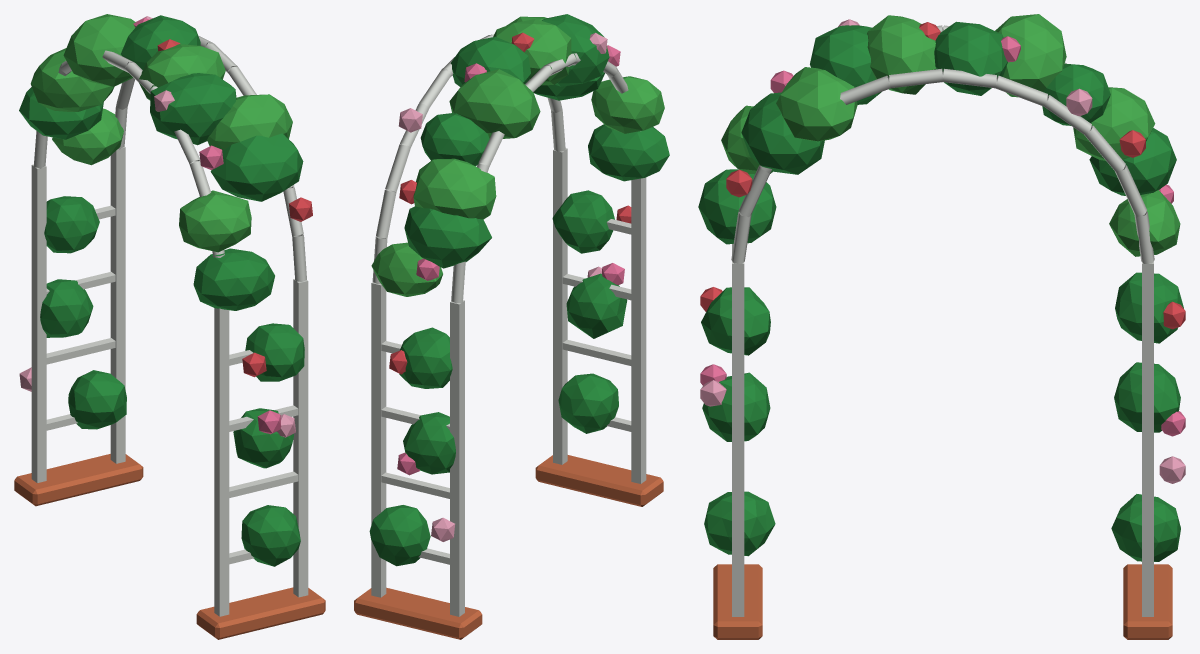
Rendered from greenhouse-deco3.glb.
3 views of the same model, side by side, from view 1: azimuth 30°, elevation 25°; view 2: azimuth 150°, elevation 25°; view 3: azimuth 270°, elevation 25° (orthographic). The views are drawn at different scales.
Parts seen in each view (by area): view 1: greenhouse-deco3; view 2: greenhouse-deco3; view 3: greenhouse-deco3.
Boxes of the visible parts, <box> form: greenhouse-deco3: <box>14,14,325,639</box>; greenhouse-deco3: <box>354,14,669,639</box>; greenhouse-deco3: <box>698,14,1185,639</box>.
Size of the model in its own units: 0.828 by 3.17 by 2.38.
